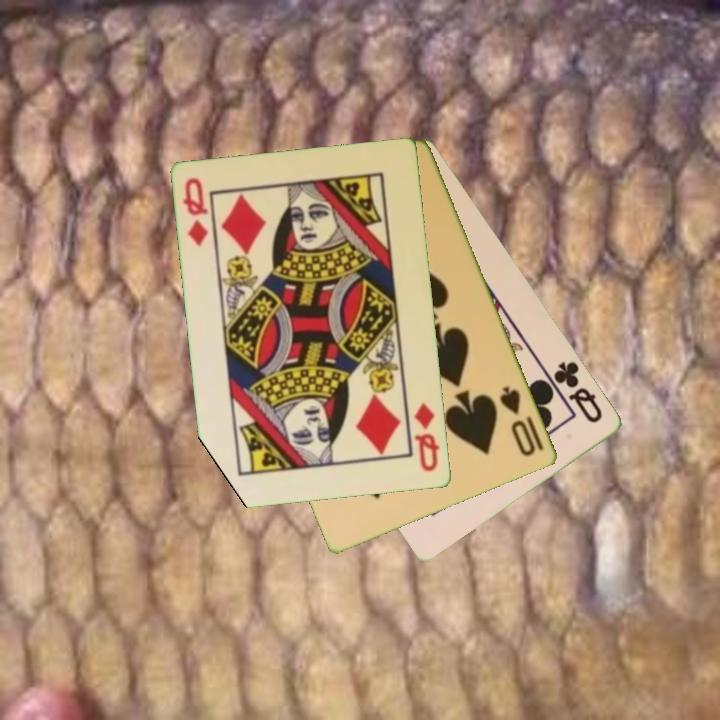10s: (497, 382, 539, 460)
Qc: (550, 357, 606, 427)
Qd: (180, 174, 212, 250), (411, 400, 443, 475)
